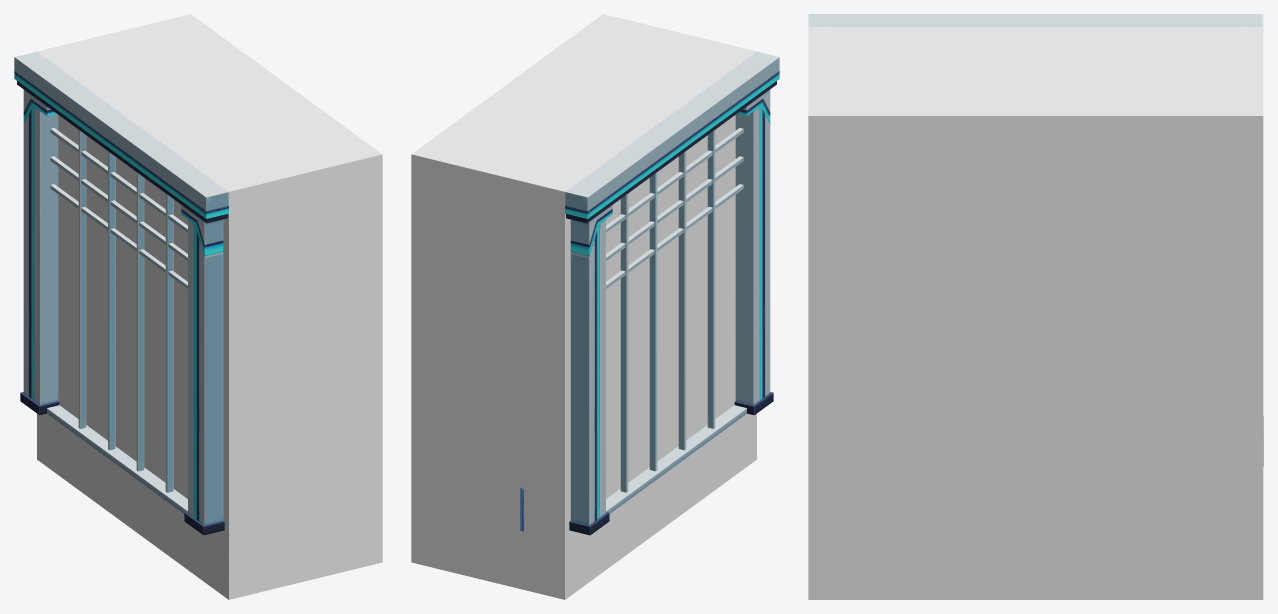
Rendered from my_millenniumlounge_01_window_03.glb.
3 renders of one model, left to right at view 1: azimuth 30°, elevation 25°; view 2: azimuth 150°, elevation 25°; view 3: azimuth 270°, elevation 25°, orthographic. The views are drawn at different scales.
Parts seen in each view (by area): view 1: my_millenniumlounge_01_window_03_cover, my_millenniumlounge_01_window_03, my_millenniumlounge_01_window_03_hole; view 2: my_millenniumlounge_01_window_03_cover, my_millenniumlounge_01_window_03, my_millenniumlounge_01_window_03_hole; view 3: my_millenniumlounge_01_window_03_cover, my_millenniumlounge_01_window_03.
Boxes of the visible parts, bbox=[...] form: my_millenniumlounge_01_window_03_cover: bbox=[37, 14, 382, 599]; my_millenniumlounge_01_window_03: bbox=[14, 51, 228, 535]; my_millenniumlounge_01_window_03_hole: bbox=[58, 115, 187, 498]; my_millenniumlounge_01_window_03_cover: bbox=[411, 14, 756, 599]; my_millenniumlounge_01_window_03: bbox=[565, 51, 779, 535]; my_millenniumlounge_01_window_03_hole: bbox=[606, 115, 735, 498]; my_millenniumlounge_01_window_03_cover: bbox=[808, 27, 1263, 599]; my_millenniumlounge_01_window_03: bbox=[808, 14, 1263, 26].
Bounding box in the file's own units: 0.0219 × 0.0483 × 0.0412.
5 materials, 3 textured.
